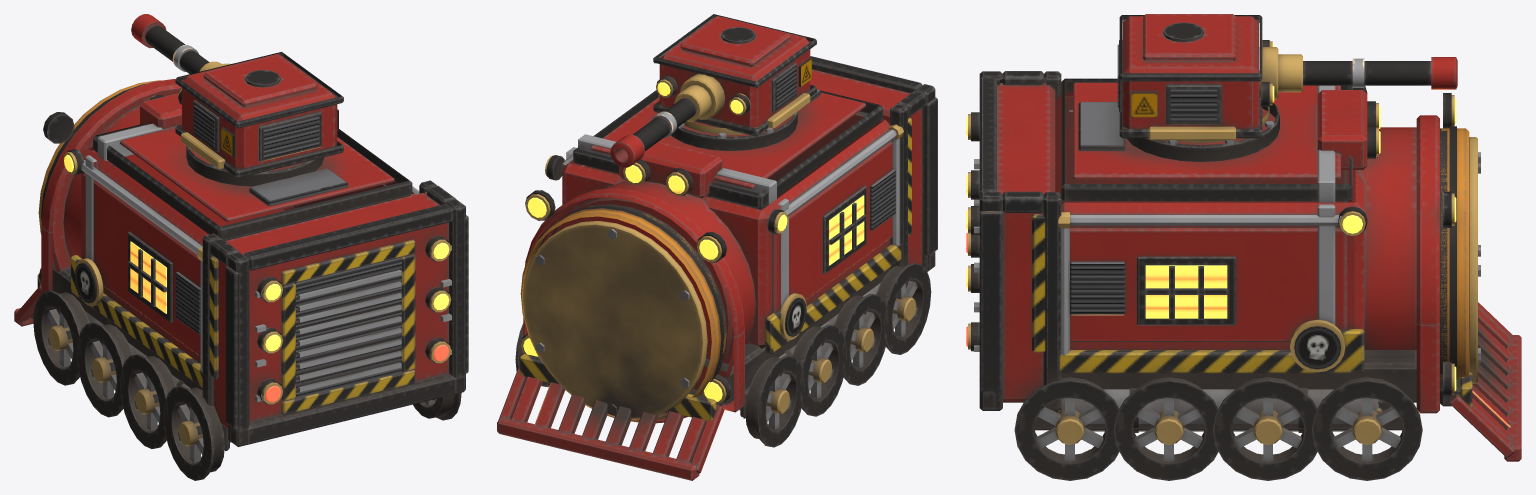
Rendered from SM_DRL_DrillVehicle.fbx.
The picture shows the model from 3 angles, left to right: view 1: azimuth 30°, elevation 25°; view 2: azimuth 150°, elevation 25°; view 3: azimuth 270°, elevation 25°; orthographic projection. The views are drawn at different scales.
Visible parts, largest first — view 1: VehicleBody, Turret, Axle_4, Axle_3, Axle_1, Axle_2, Cannon; view 2: VehicleBody, Turret, Axle_1, Axle_4, Axle_2, Axle_3, Cannon; view 3: VehicleBody, Turret, Axle_1, Axle_2, Axle_3, Axle_4, Cannon.
Part boxes in pixels (x1=…): VehicleBody: x1=14, y1=79, x2=468, y2=450; Turret: x1=175, y1=52, x2=343, y2=186; Axle_4: x1=163, y1=386, x2=461, y2=480; Axle_3: x1=120, y1=354, x2=176, y2=448; Axle_1: x1=33, y1=290, x2=89, y2=385; Axle_2: x1=76, y1=322, x2=133, y2=417; Cannon: x1=131, y1=14, x2=221, y2=73; VehicleBody: x1=497, y1=56, x2=937, y2=480; Turret: x1=653, y1=14, x2=816, y2=150; Axle_1: x1=515, y1=323, x2=804, y2=447; Axle_4: x1=876, y1=263, x2=931, y2=354; Axle_2: x1=792, y1=324, x2=846, y2=416; Axle_3: x1=834, y1=293, x2=886, y2=385; Cannon: x1=610, y1=85, x2=711, y2=167; VehicleBody: x1=966, y1=71, x2=1521, y2=461; Turret: x1=1117, y1=14, x2=1279, y2=161; Axle_1: x1=1312, y1=377, x2=1422, y2=480; Axle_2: x1=1213, y1=377, x2=1320, y2=480; Axle_3: x1=1113, y1=377, x2=1222, y2=480; Axle_4: x1=1014, y1=377, x2=1122, y2=480; Cannon: x1=1278, y1=54, x2=1457, y2=92.
Size of the model in its own units: 1.16 by 1.91 by 1.44.
